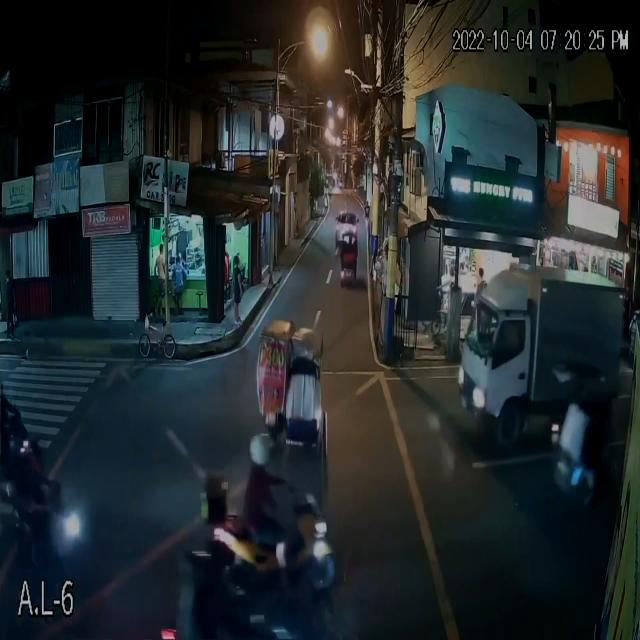Full-Faced: (249, 427, 275, 468)
